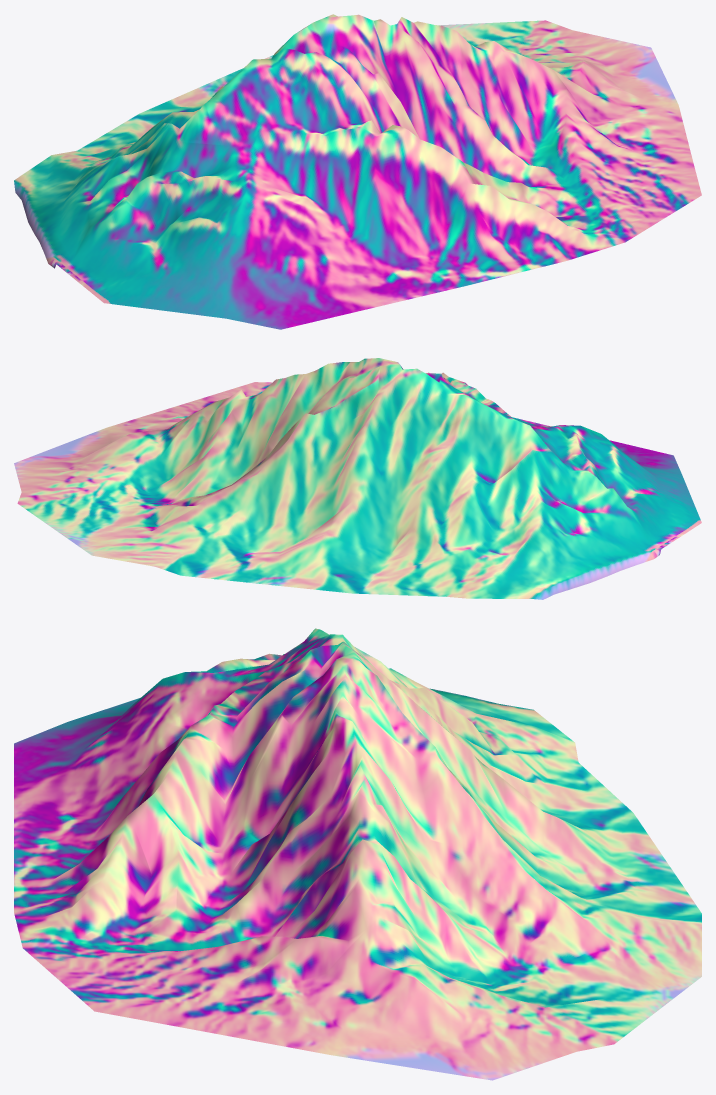
The model's file is Mountain3.fbx.
3 views of the same model, one above another, from view 1: azimuth 30°, elevation 25°; view 2: azimuth 150°, elevation 25°; view 3: azimuth 270°, elevation 25° (orthographic). The views are drawn at different scales.
Parts seen in each view (by area): view 1: Mountain3; view 2: Mountain3; view 3: Mountain3.
Boxes of the visible parts, x1=… form: Mountain3: x1=14, y1=14, x2=701, y2=329; Mountain3: x1=14, y1=358, x2=701, y2=599; Mountain3: x1=14, y1=628, x2=701, y2=1080.
Size of the model in its own units: 18443 by 4347 by 13552.
